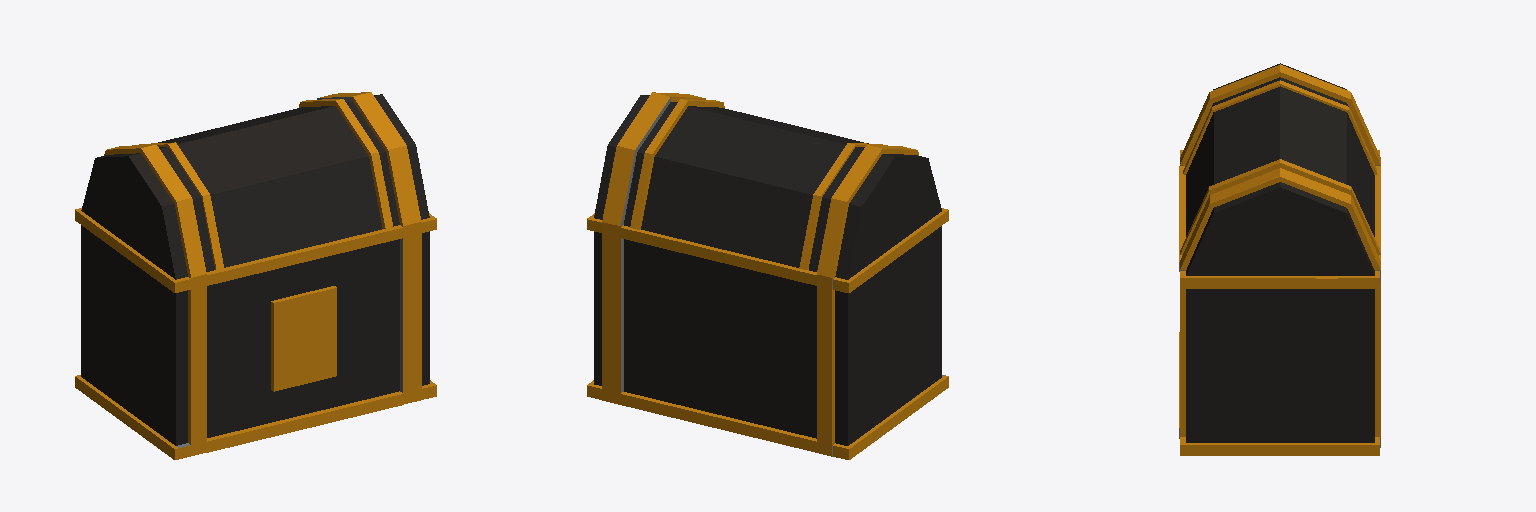
File: coffre.obj
3 views of the same model, side by side, from view 1: azimuth 30°, elevation 25°; view 2: azimuth 150°, elevation 25°; view 3: azimuth 270°, elevation 25° (orthographic).
Visible parts, largest first — view 1: pCylinder2; view 2: pCylinder2; view 3: pCylinder2.
Boxes of the visible parts, <box> form: pCylinder2: <box>75,92,436,459</box>; pCylinder2: <box>587,92,948,459</box>; pCylinder2: <box>1179,63,1380,455</box>.
Size of the model in its own units: 6.2 by 6.13 by 4.12.